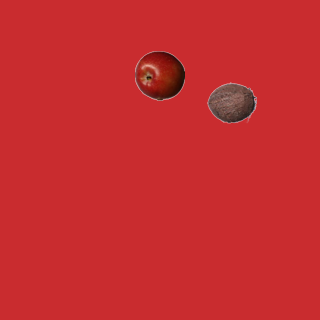Apple Braeburn: (134, 50, 184, 100)
Cocos: (206, 77, 256, 127)
